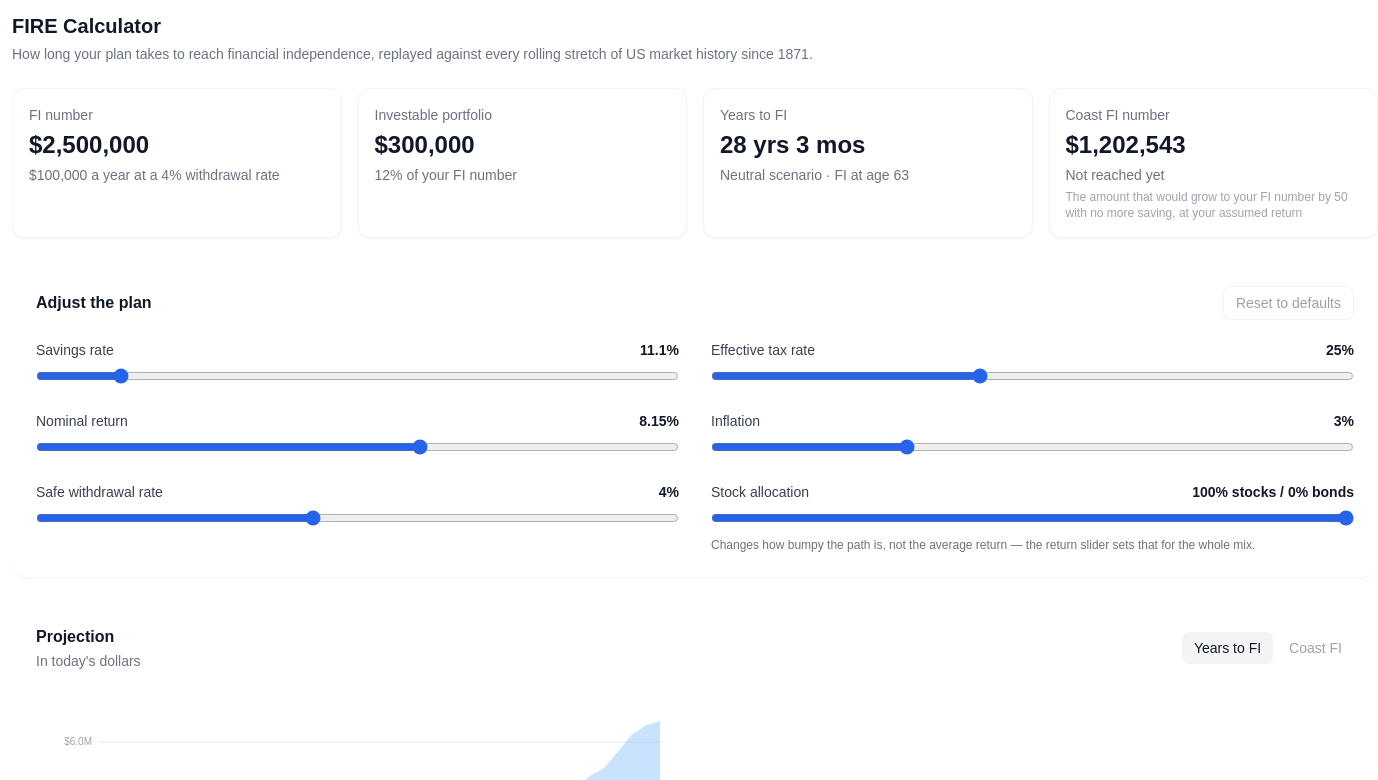
Test case: FireCalculatorClient › keeps the savings slider on its track when the tax rate moves
This screenshot has width=1378, height=780.
Set the slider labelled "Effective tax rate" to "60" at (1346, 376), box [711,368,1354,384]
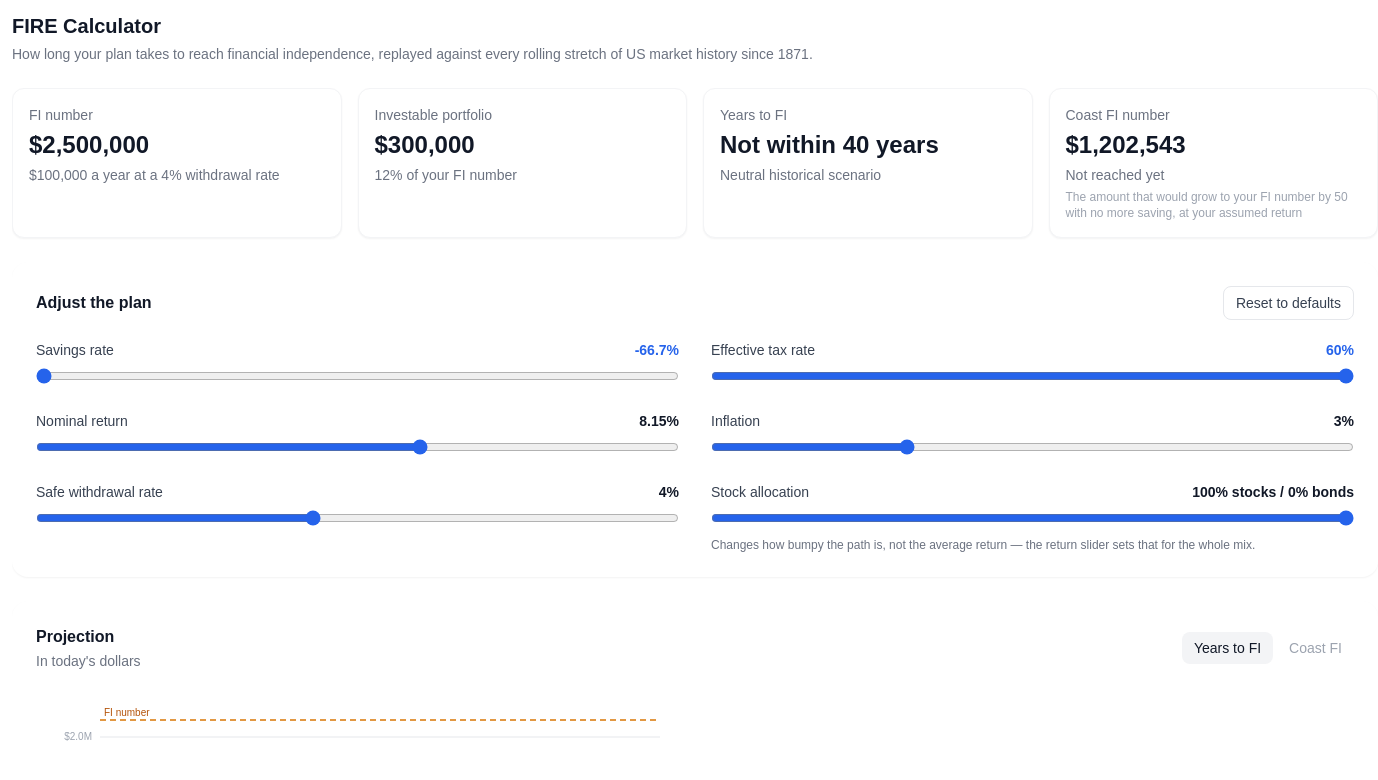
expect the text "NaN" is not shown: met
expect the text "Not within 40 years" is shown: met, box [720,131,939,158]
